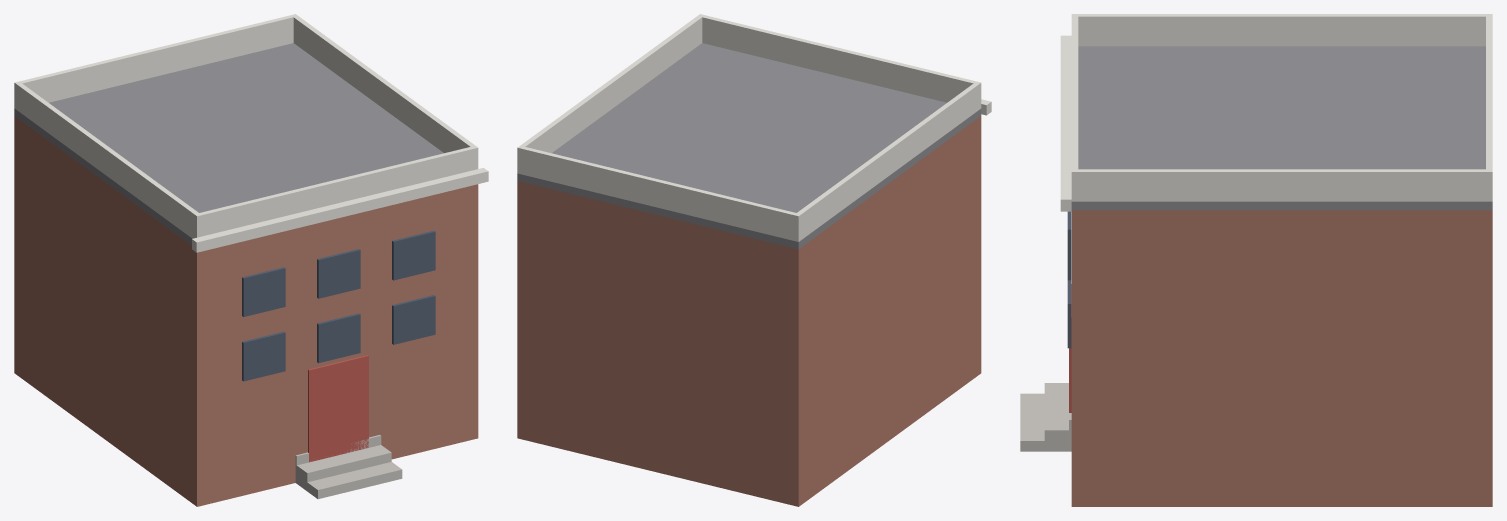
Rendered from Brownstone_A.glb.
3 renders of one model, left to right at view 1: azimuth 30°, elevation 25°; view 2: azimuth 150°, elevation 25°; view 3: azimuth 270°, elevation 25°, orthographic. The views are drawn at different scales.
Parts seen in each view (by area): view 1: Brownstone_A; view 2: Brownstone_A; view 3: Brownstone_A.
Part boxes in pixels (left/top/right/bottom): Brownstone_A: left=14, top=14, right=488, bottom=506; Brownstone_A: left=517, top=14, right=991, bottom=506; Brownstone_A: left=1020, top=14, right=1492, bottom=506.
Size of the model in its own units: 8.3 by 7.9 by 10.1.
